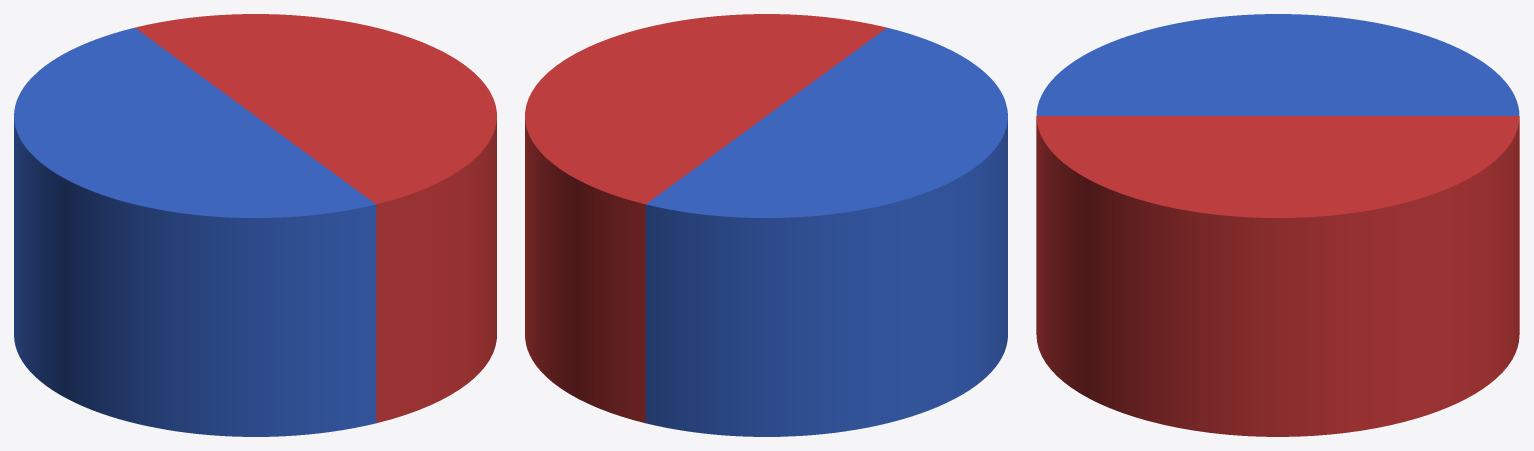
Rendered from magnet_d2x1_diametric.glb.
3 views of the same model, side by side, from view 1: azimuth 30°, elevation 25°; view 2: azimuth 150°, elevation 25°; view 3: azimuth 270°, elevation 25° (orthographic).
Visible parts, largest first — view 1: S_half, N_half; view 2: S_half, N_half; view 3: N_half, S_half.
Part boxes in pixels (bbox=[...]): S_half: bbox=[14, 27, 376, 436]; N_half: bbox=[135, 14, 496, 423]; S_half: bbox=[645, 27, 1007, 436]; N_half: bbox=[525, 14, 886, 423]; N_half: bbox=[1036, 116, 1519, 436]; S_half: bbox=[1036, 14, 1519, 115].
Size of the model in its own units: 0.002 by 0.001 by 0.002.
